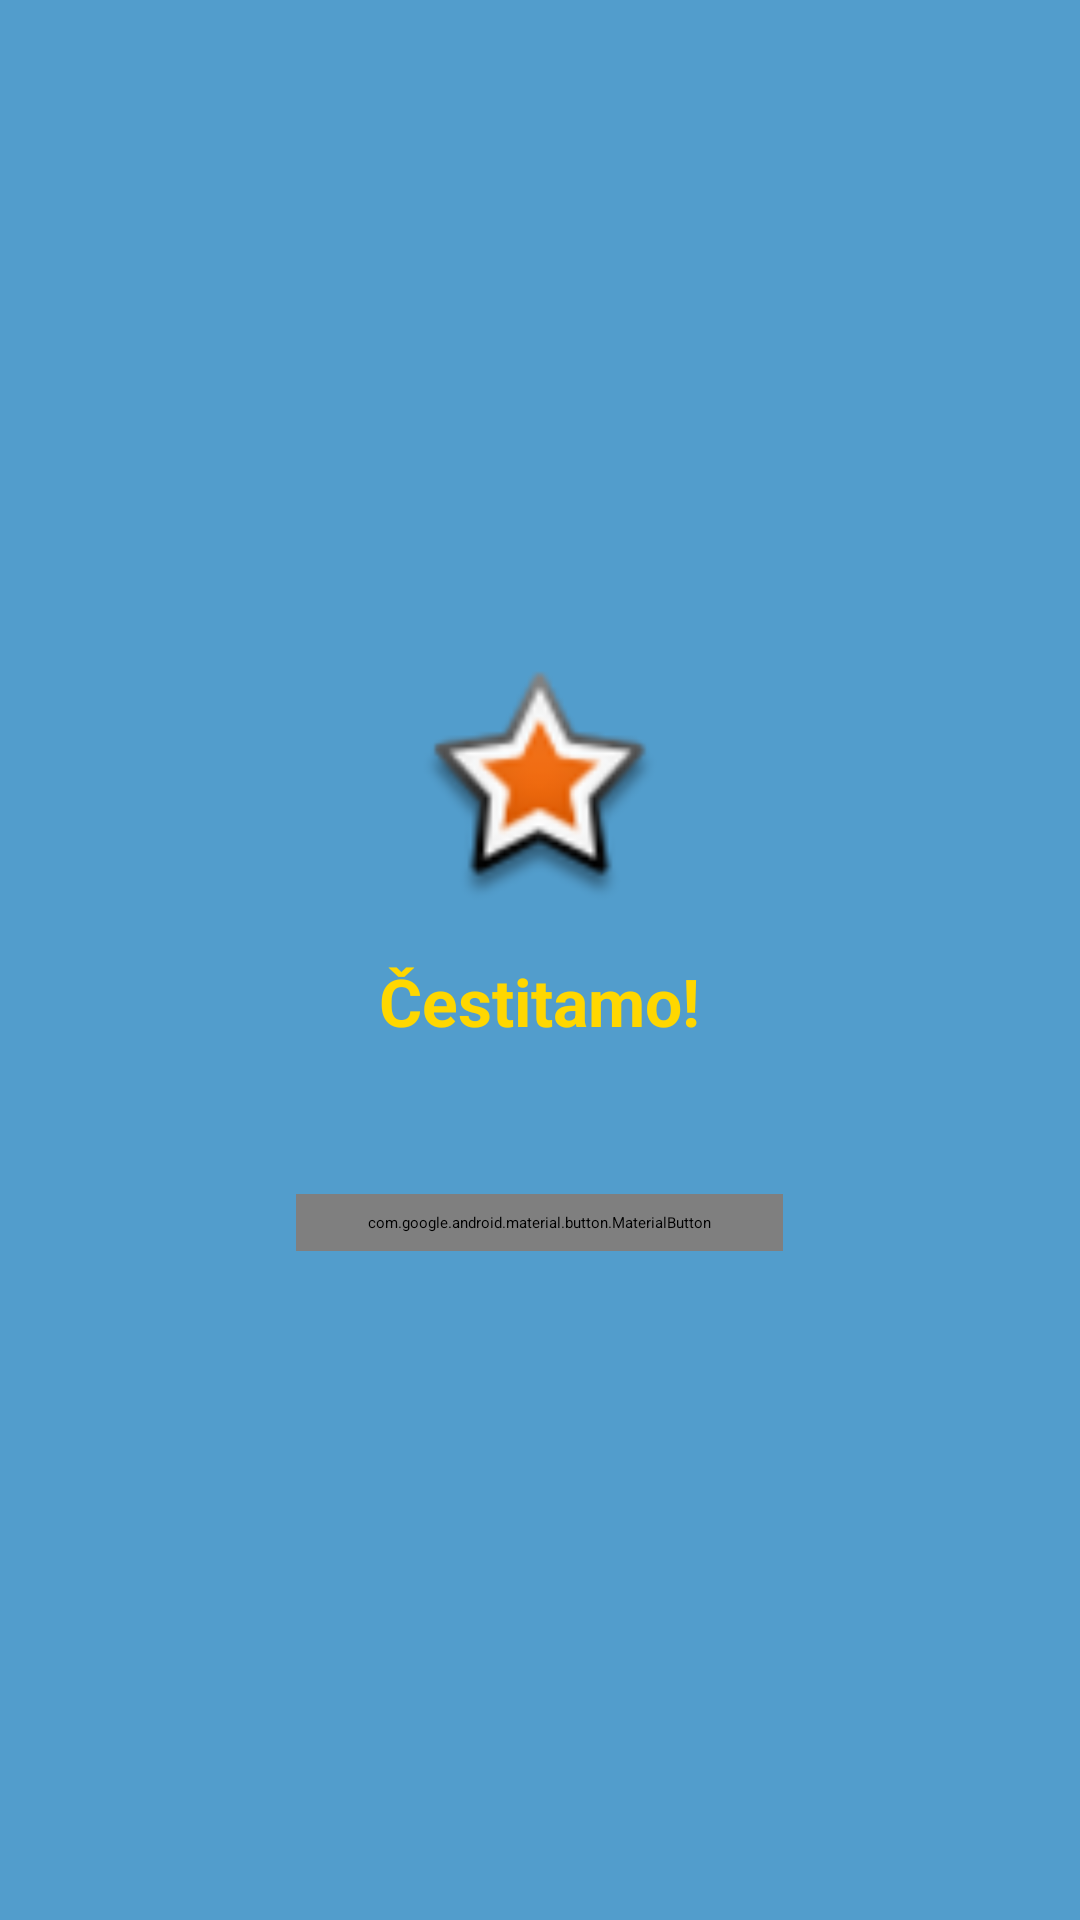

Icons on this 1080px x 1920px Android screen, each with its box as (x1,y1,x2,y2):
star on: (434,673,646,888)
